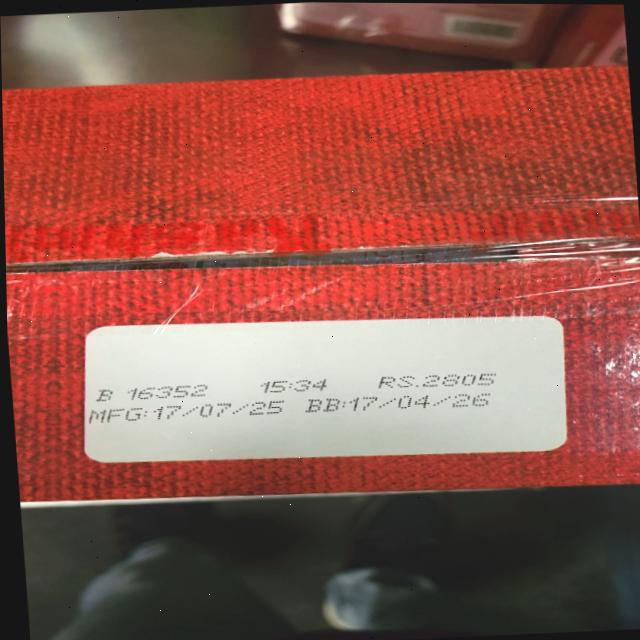BB: (303, 386, 509, 422)
Batch: (91, 378, 221, 407)
MFG: (84, 398, 293, 429)
RS: (378, 367, 507, 396)
TimeStamp: (254, 375, 336, 396)
